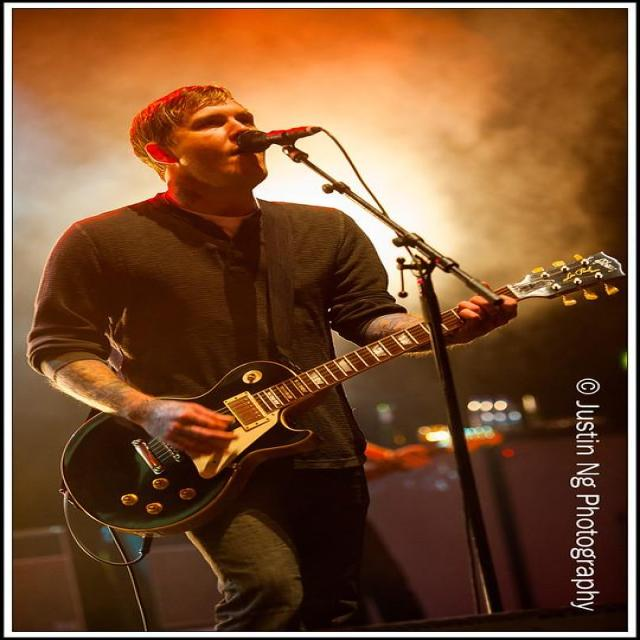guitar: (62, 324, 430, 535)
